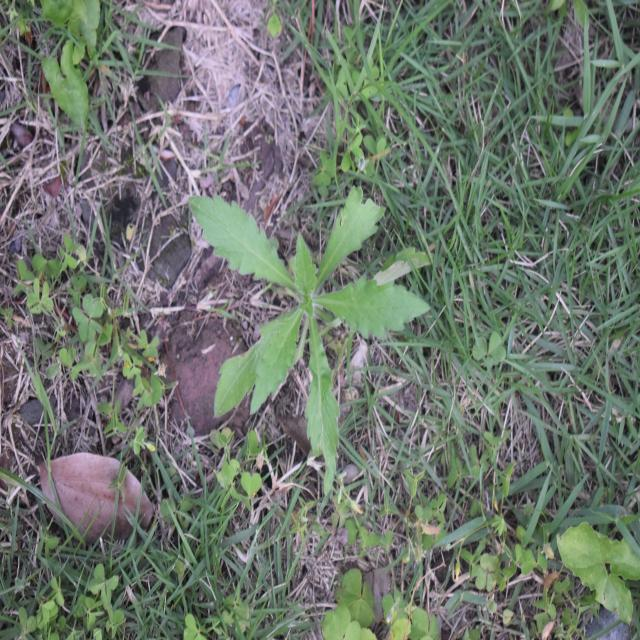horseweed: (197, 180, 413, 463)
